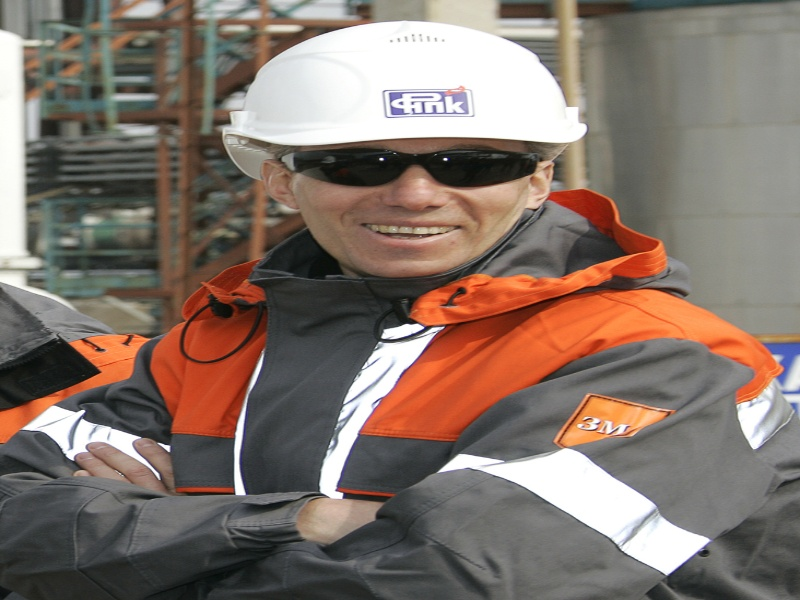helmet: (228, 20, 590, 149)
jacket: (26, 237, 788, 600)
